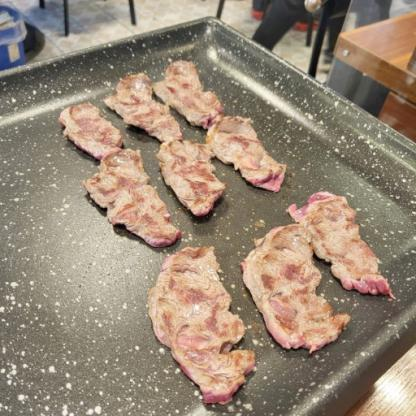Carne: (149, 235, 241, 400), (290, 189, 401, 304), (72, 147, 192, 240), (254, 223, 333, 349), (203, 110, 289, 190), (156, 131, 228, 219), (111, 69, 188, 147), (61, 95, 126, 162), (167, 56, 221, 129)
